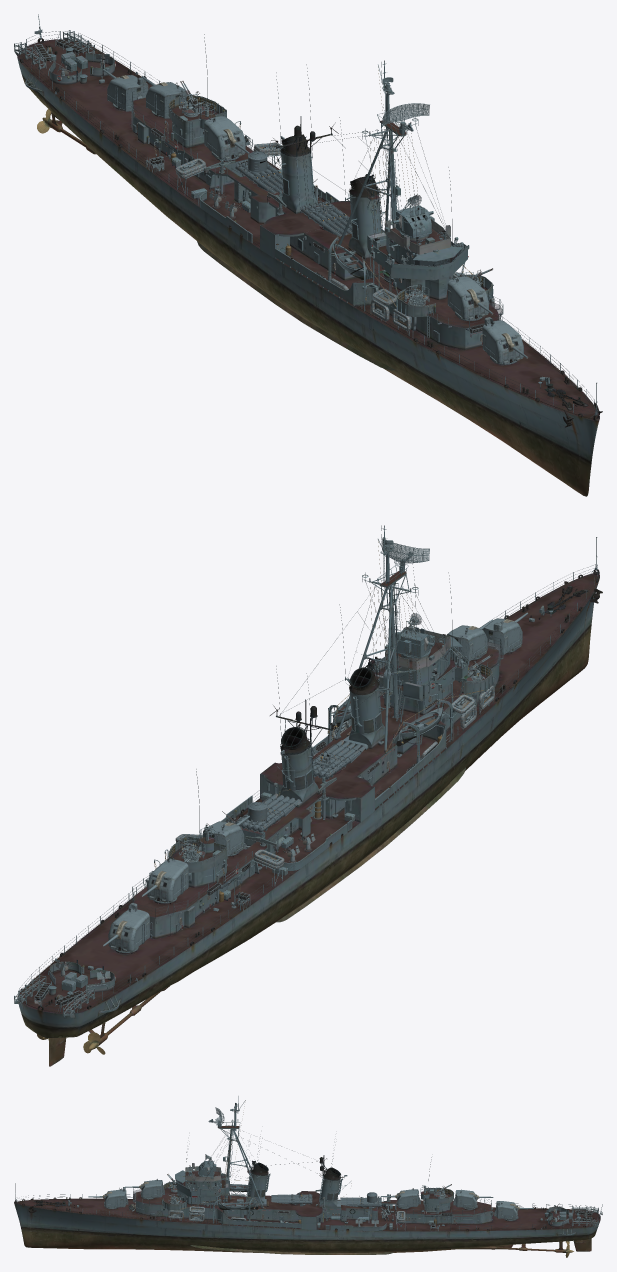
Rendered from blurudestroyer2.glb.
3 views of the same model, one above another, from view 1: azimuth 30°, elevation 25°; view 2: azimuth 150°, elevation 25°; view 3: azimuth 270°, elevation 25° (orthographic). The views are drawn at different scales.
Visible parts, largest first — view 1: Object_144, Object_96, Object_20, Object_110, Object_82, Object_16, Object_88, Object_116, Object_158; view 2: Object_144, Object_96, Object_20, Object_110, Object_108, Object_16, Object_82, Object_88; view 3: Object_144, Object_96, Object_20, Object_110, Object_108, Object_82, Object_16, Object_88.
Boxes of the visible parts, bbox=[...] form: Object_144: bbox=[15, 14, 602, 496]; Object_96: bbox=[103, 69, 528, 364]; Object_20: bbox=[235, 151, 351, 236]; Object_110: bbox=[175, 143, 494, 331]; Object_82: bbox=[178, 81, 492, 305]; Object_16: bbox=[392, 205, 433, 238]; Object_88: bbox=[14, 30, 94, 69]; Object_116: bbox=[34, 38, 250, 172]; Object_158: bbox=[382, 103, 429, 125]; Object_144: bbox=[14, 525, 602, 1066]; Object_96: bbox=[103, 612, 528, 952]; Object_20: bbox=[235, 740, 366, 833]; Object_110: bbox=[175, 685, 494, 869]; Object_108: bbox=[332, 699, 442, 746]; Object_16: bbox=[396, 627, 434, 658]; Object_82: bbox=[179, 654, 492, 862]; Object_88: bbox=[14, 974, 95, 1016]; Object_144: bbox=[14, 1097, 602, 1254]; Object_96: bbox=[88, 1179, 533, 1220]; Object_20: bbox=[271, 1192, 381, 1208]; Object_110: bbox=[168, 1193, 405, 1222]; Object_108: bbox=[218, 1184, 258, 1209]; Object_82: bbox=[167, 1174, 451, 1203]; Object_16: bbox=[196, 1160, 216, 1176]; Object_88: bbox=[571, 1206, 598, 1225].
Bounding box in the file's own units: 8.26 × 22.4 × 76.77.
Materials: 55 (53 with a texture image).
